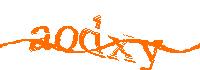a: (28, 23, 51, 52)
d: (79, 14, 106, 60)
o: (53, 23, 78, 54)
x: (108, 31, 136, 65)
y: (138, 38, 164, 70)
